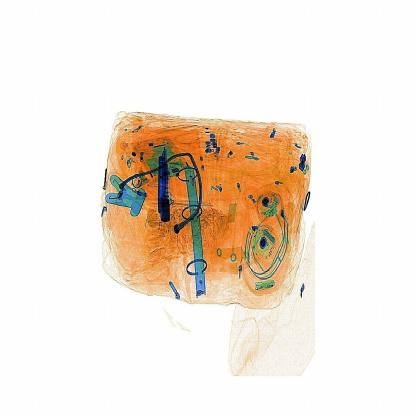pliers: (156, 147, 173, 227)
